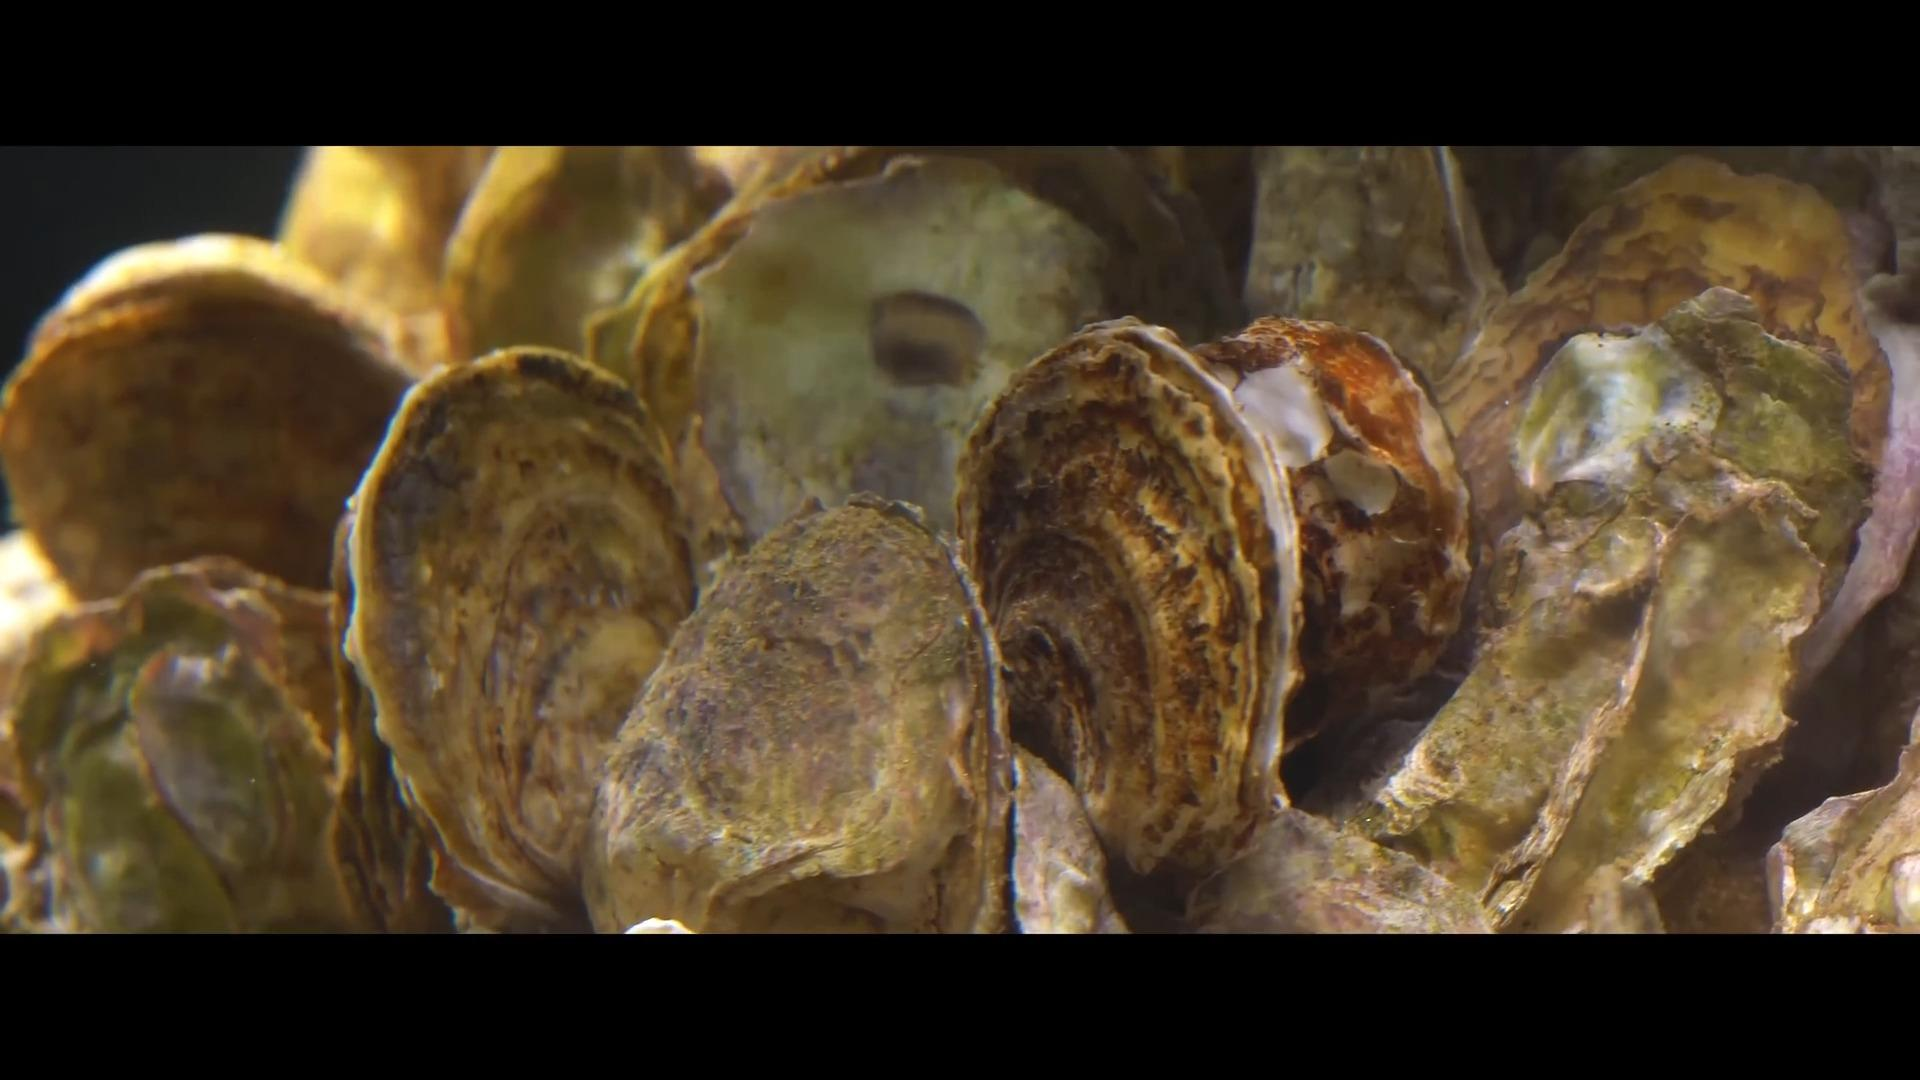Oyster: (332, 348, 698, 930), (956, 319, 1300, 891), (593, 500, 1002, 924), (1447, 165, 1878, 563), (0, 235, 411, 599), (8, 560, 359, 930), (1197, 314, 1480, 742), (442, 145, 733, 386)
